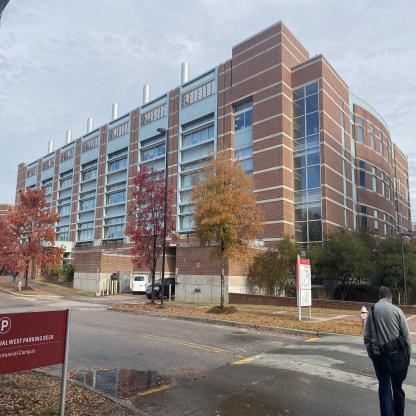EB-1: (14, 44, 406, 277)
